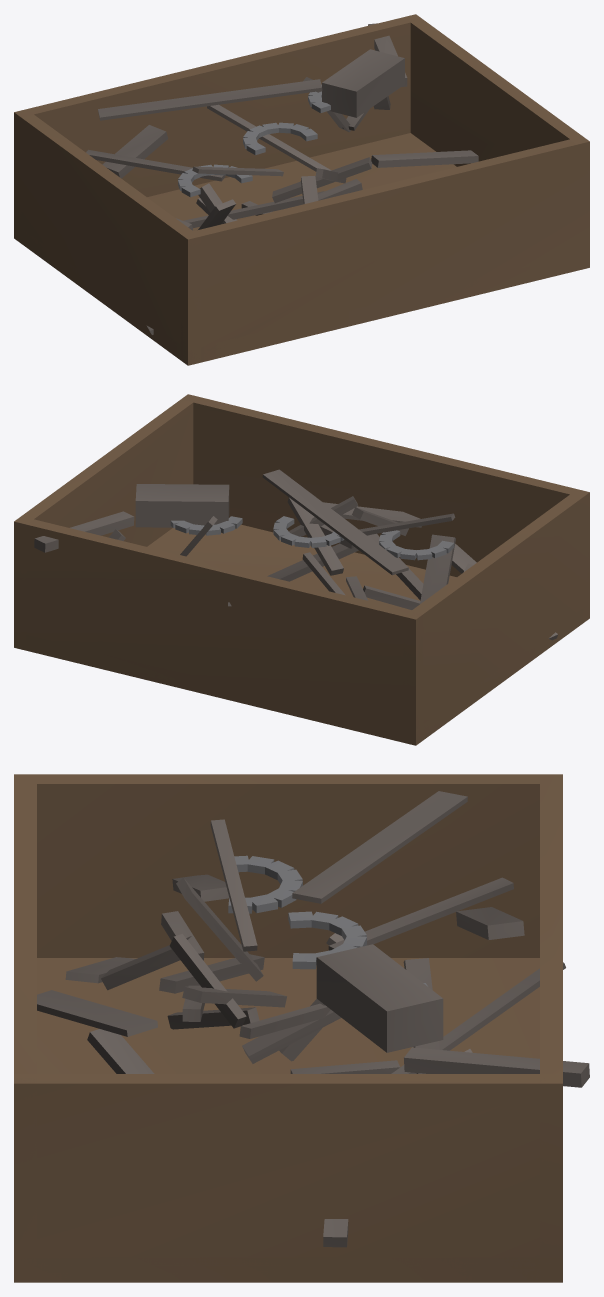
Rendered from kalev_smithy_scrap_heap.glb.
3 views of the same model, one above another, from view 1: azimuth 30°, elevation 25°; view 2: azimuth 150°, elevation 25°; view 3: azimuth 270°, elevation 25° (orthographic). The views are drawn at different scales.
Visible parts, largest first — view 1: kalev_smithy_scrap_heap_oak, kalev_smithy_scrap_heap_iron; view 2: kalev_smithy_scrap_heap_oak, kalev_smithy_scrap_heap_iron; view 3: kalev_smithy_scrap_heap_oak, kalev_smithy_scrap_heap_iron.
Part boxes in pixels (x1,y1,x2,y2): kalev_smithy_scrap_heap_oak: (14, 14, 589, 365); kalev_smithy_scrap_heap_iron: (86, 23, 478, 334); kalev_smithy_scrap_heap_oak: (14, 394, 589, 745); kalev_smithy_scrap_heap_iron: (34, 469, 557, 640); kalev_smithy_scrap_heap_oak: (14, 774, 562, 1282); kalev_smithy_scrap_heap_iron: (37, 791, 589, 1247).
Size of the model in its own units: 0.8412 by 0.303 by 0.6295.
